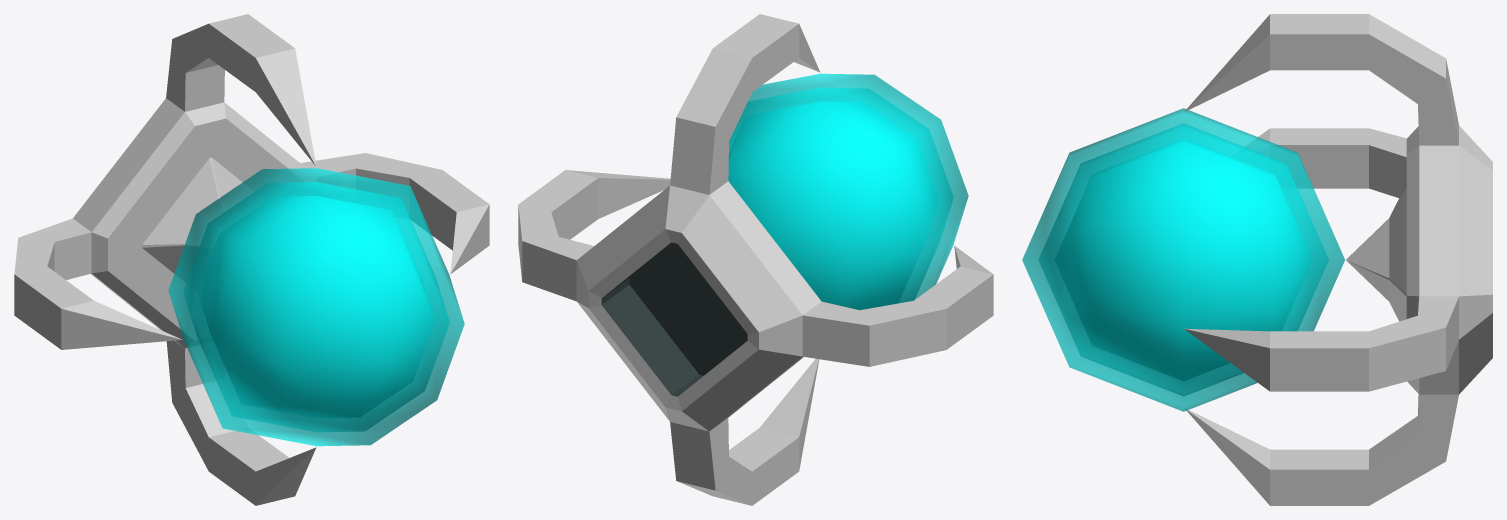
Rendered from Ship 2.obj.
3 views of the same model, side by side, from view 1: azimuth 30°, elevation 25°; view 2: azimuth 150°, elevation 25°; view 3: azimuth 270°, elevation 25° (orthographic). The views are drawn at different scales.
Parts seen in each view (by area): view 1: Grab, Core; view 2: Grab, Core; view 3: Grab, Core.
Part boxes in pixels (left/top/right/bottom): Grab: left=14, top=14, right=489, bottom=505; Core: left=168, top=168, right=464, bottom=446; Grab: left=518, top=14, right=993, bottom=505; Core: left=728, top=73, right=968, bottom=310; Grab: left=1184, top=14, right=1492, bottom=505; Core: left=1022, top=108, right=1344, bottom=411.
Bounding box in the file's own units: 1 × 1 × 0.9045.
